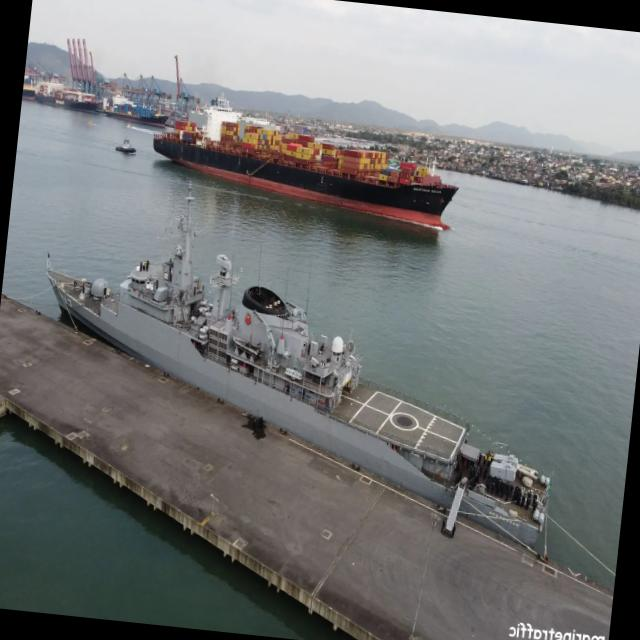Cargo: (153, 96, 458, 229), (35, 82, 101, 111)
Military: (47, 186, 549, 548)
Tug: (115, 136, 136, 154)
